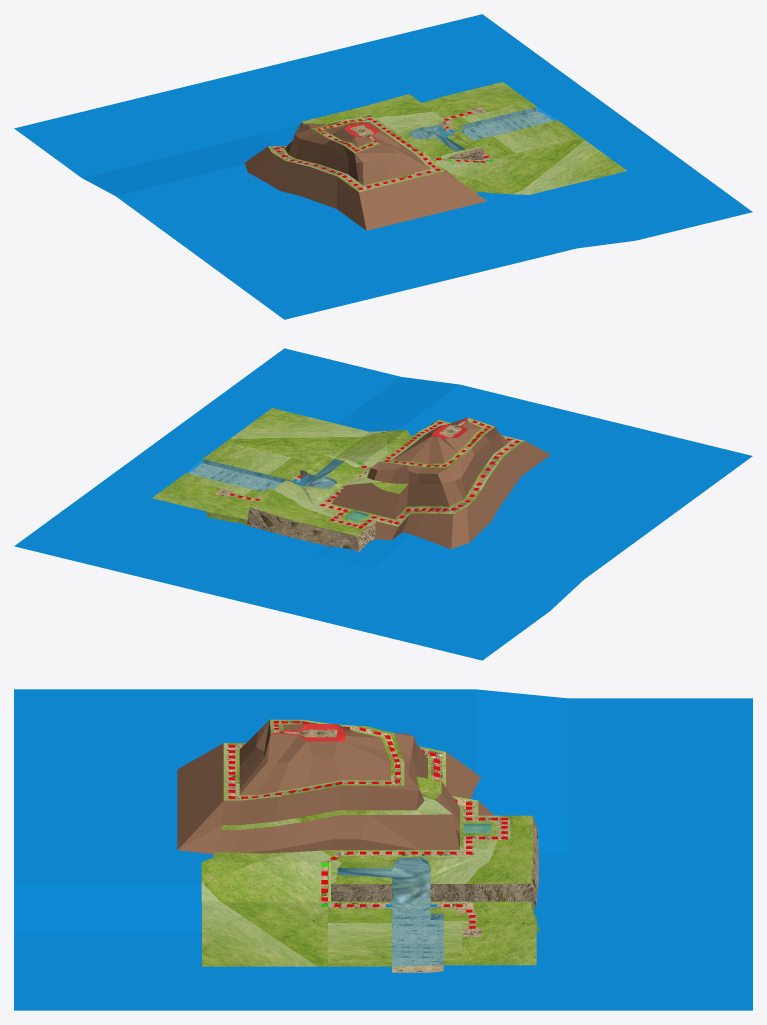
Rendered from level.fbx.
The picture shows the model from 3 angles, top to bottom: view 1: azimuth 30°, elevation 25°; view 2: azimuth 150°, elevation 25°; view 3: azimuth 270°, elevation 25°; orthographic projection. The views are drawn at different scales.
Visible parts, largest first — view 1: Plane.002, Plane, Path; view 2: Plane.002, Plane, Path; view 3: Plane.002, Plane, Path.
Boxes of the visible parts, x1,y1,x2,y2 form: Plane.002: (14, 14, 752, 319); Plane: (244, 82, 626, 230); Path: (271, 107, 495, 190); Plane.002: (14, 348, 752, 660); Plane: (152, 408, 550, 551); Path: (215, 418, 521, 529); Plane.002: (14, 689, 752, 1010); Plane: (177, 719, 539, 972); Path: (227, 721, 509, 936).
Bounding box in the file's own units: 23000 × 4081 × 23000.
